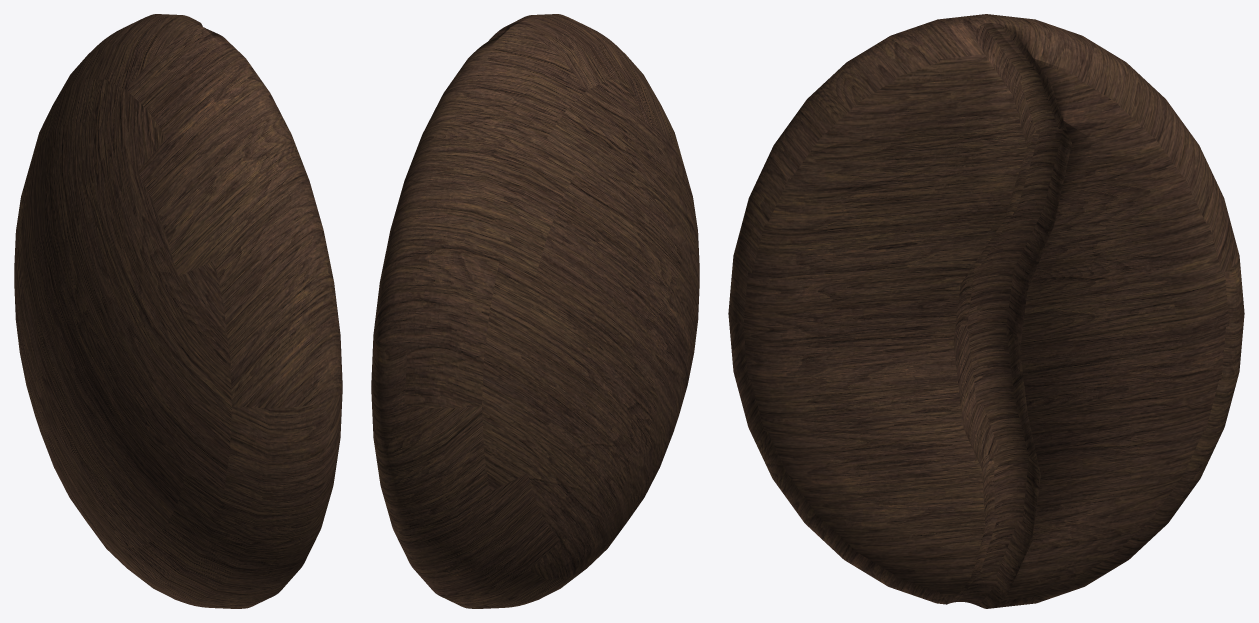
File: coffee_bean_2.glb
The picture shows the model from 3 angles, left to right: view 1: azimuth 30°, elevation 25°; view 2: azimuth 150°, elevation 25°; view 3: azimuth 270°, elevation 25°; orthographic projection. The views are drawn at different scales.
Parts seen in each view (by area): view 1: coffee bean 2; view 2: coffee bean 2; view 3: coffee bean 2.
Part boxes in pixels (box(x1,y1,x2,y2)): coffee bean 2: box(14, 14, 342, 608); coffee bean 2: box(371, 14, 699, 608); coffee bean 2: box(728, 14, 1244, 608).
Size of the model in its own units: 0.1174 by 0.356 by 0.2842.
Materials: 1 (1 with a texture image).
